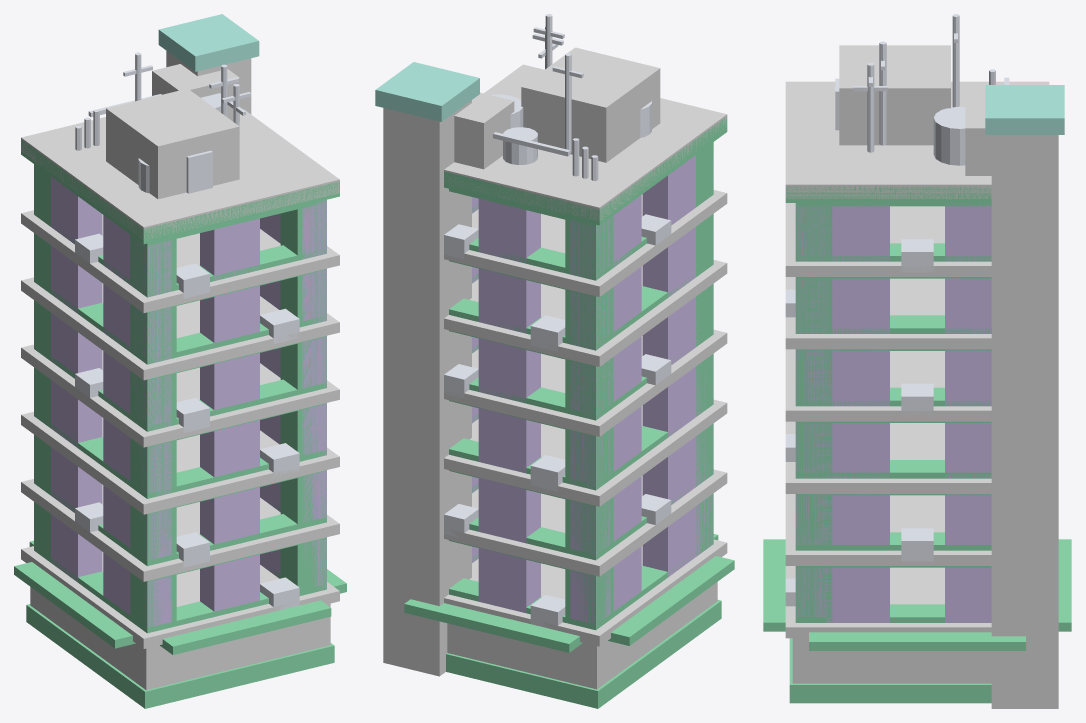
Rendered from hk-walkup-b.glb.
3 renders of one model, left to right at view 1: azimuth 30°, elevation 25°; view 2: azimuth 150°, elevation 25°; view 3: azimuth 270°, elevation 25°, orthographic. The views are drawn at different scales.
Parts seen in each view (by area): view 1: walkup b pier.001, walkup b roof, walkup b corner.001, walkup b pier.009, walkup b pier.008, walkup b corner.003, walkup b lift overrun, walkup b pier.007, walkup b shopfront, walkup b balcony 3, walkup b balcony 5, walkup b plinth (+32 smaller); view 2: walkup b stair tower, walkup b pier.004, walkup b pier.009, walkup b pier.008, walkup b corner, walkup b roof, walkup b lift overrun, walkup b shopfront, walkup b balcony 5, walkup b balcony 2, walkup b balcony 4, walkup b balcony 3 (+32 smaller); view 3: walkup b stair tower, walkup b pier.007, walkup b pier.006, walkup b roof, walkup b corner.003, walkup b lift overrun, walkup b shopfront, walkup b balcony 6, walkup b balcony 5, walkup b balcony 4, walkup b balcony 3, walkup b balcony 2 (+23 smaller).
Part boxes in pixels (x1=…): walkup b pier.001: x1=200, y1=218, x2=259, y2=611; walkup b roof: x1=21, y1=109, x2=339, y2=240; walkup b corner.001: x1=130, y1=235, x2=176, y2=627; walkup b pier.009: x1=51, y1=177, x2=102, y2=581; walkup b pier.008: x1=103, y1=215, x2=171, y2=627; walkup b corner.003: x1=280, y1=200, x2=326, y2=595; walkup b lift overrun: x1=106, y1=88, x2=239, y2=199; walkup b pier.007: x1=260, y1=200, x2=326, y2=590; walkup b shopfront: x1=30, y1=587, x2=330, y2=690; walkup b balcony 3: x1=21, y1=411, x2=339, y2=514; walkup b balcony 5: x1=21, y1=277, x2=339, y2=380; walkup b plinth: x1=26, y1=604, x2=334, y2=708; walkup b stair tower: x1=383, y1=100, x2=471, y2=676; walkup b pier.004: x1=478, y1=196, x2=540, y2=612; walkup b pier.009: x1=570, y1=195, x2=641, y2=627; walkup b pier.008: x1=642, y1=155, x2=712, y2=577; walkup b corner: x1=565, y1=215, x2=613, y2=627; walkup b roof: x1=444, y1=64, x2=727, y2=221; walkup b lift overrun: x1=521, y1=47, x2=660, y2=162; walkup b shopfront: x1=447, y1=582, x2=717, y2=689; walkup b balcony 5: x1=444, y1=260, x2=727, y2=366; walkup b balcony 2: x1=444, y1=469, x2=727, y2=576; walkup b balcony 4: x1=444, y1=329, x2=727, y2=436; walkup b balcony 3: x1=444, y1=399, x2=727, y2=506; walkup b stair tower: x1=991, y1=135, x2=1058, y2=708; walkup b pier.007: x1=795, y1=203, x2=889, y2=622; walkup b pier.006: x1=945, y1=203, x2=991, y2=622; walkup b roof: x1=785, y1=81, x2=1049, y2=199; walkup b corner.003: x1=795, y1=203, x2=832, y2=622; walkup b lift overrun: x1=839, y1=45, x2=950, y2=145; walkup b shopfront: x1=792, y1=638, x2=991, y2=683; walkup b balcony 6: x1=785, y1=203, x2=991, y2=276; walkup b balcony 5: x1=785, y1=277, x2=991, y2=349; walkup b balcony 4: x1=785, y1=349, x2=991, y2=421; walkup b balcony 3: x1=785, y1=421, x2=991, y2=493; walkup b balcony 2: x1=785, y1=494, x2=991, y2=565.
Size of the model in its own units: 2.84 by 6.8 by 3.04.
